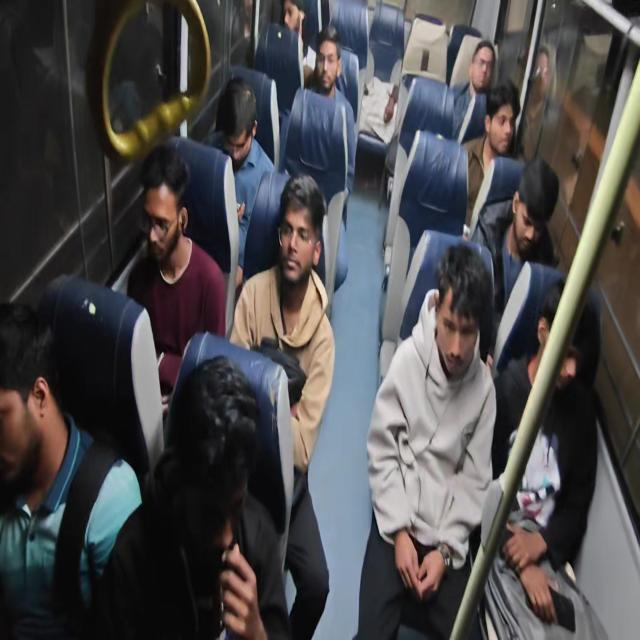person: (170, 326, 274, 574), (0, 294, 54, 463), (433, 239, 495, 378), (538, 271, 593, 406), (127, 148, 191, 256), (274, 170, 326, 302), (216, 71, 268, 183), (509, 150, 560, 258), (482, 77, 522, 175), (314, 27, 349, 113), (471, 36, 498, 104), (282, 0, 306, 54)
